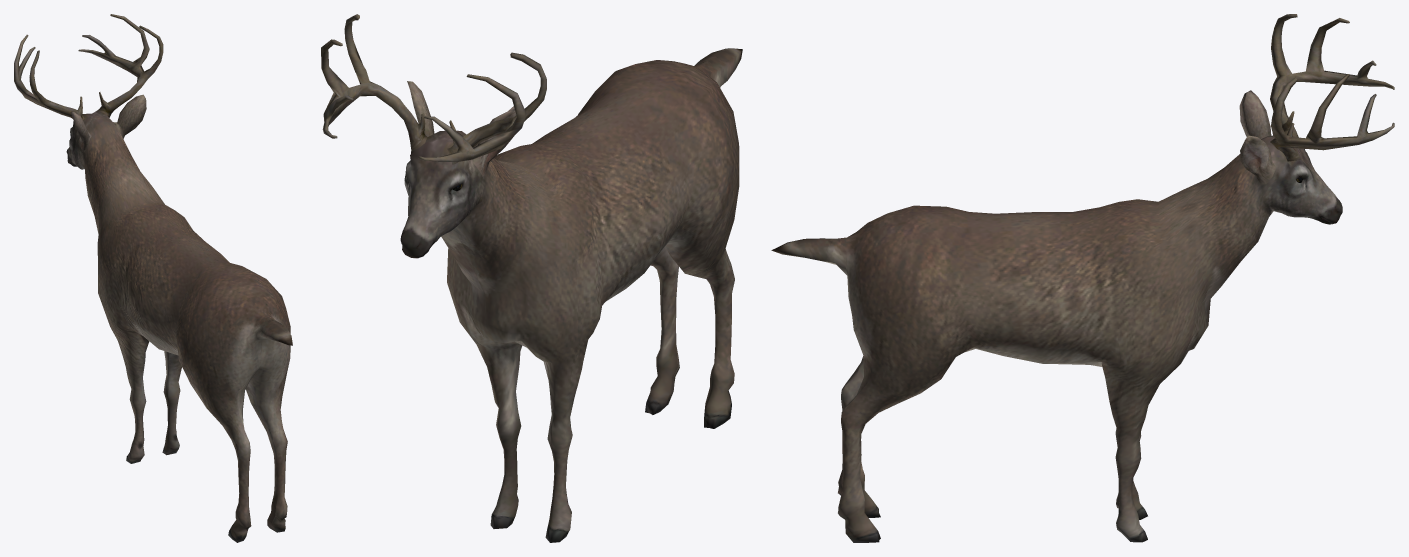
The model's file is Deer_type_03_A_FBX.FBX.
3 renders of one model, left to right at view 1: azimuth 30°, elevation 25°; view 2: azimuth 150°, elevation 25°; view 3: azimuth 270°, elevation 25°, orthographic. The views are drawn at different scales.
Visible parts, largest first — view 1: Deer_type_03_A_body, Deer_type_03_A_horns; view 2: Deer_type_03_A_body, Deer_type_03_A_horns; view 3: Deer_type_03_A_body, Deer_type_03_A_horns.
Part boxes in pixels (x1,y1,x2,y2): Deer_type_03_A_body: (66, 94, 292, 542); Deer_type_03_A_horns: (14, 14, 163, 119); Deer_type_03_A_body: (400, 48, 742, 542); Deer_type_03_A_horns: (321, 14, 546, 164); Deer_type_03_A_body: (771, 90, 1342, 542); Deer_type_03_A_horns: (1270, 14, 1394, 161).
Bounding box in the file's own units: 71.31 × 189 × 221.
